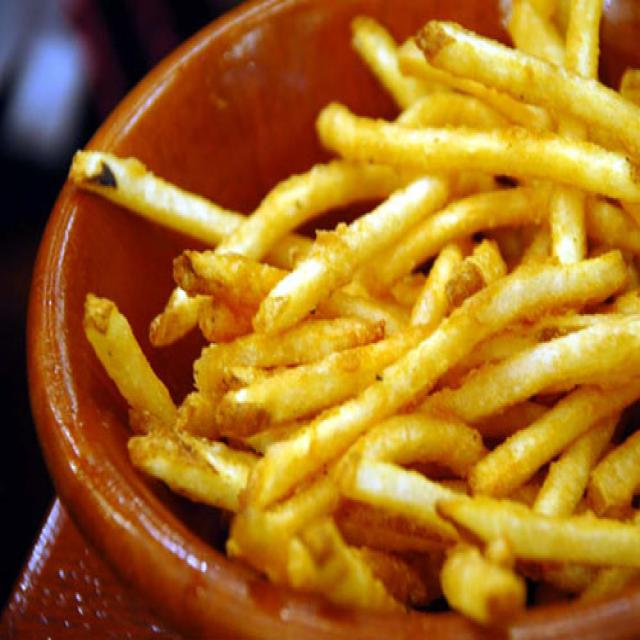炸货点心: (25, 5, 640, 640)
